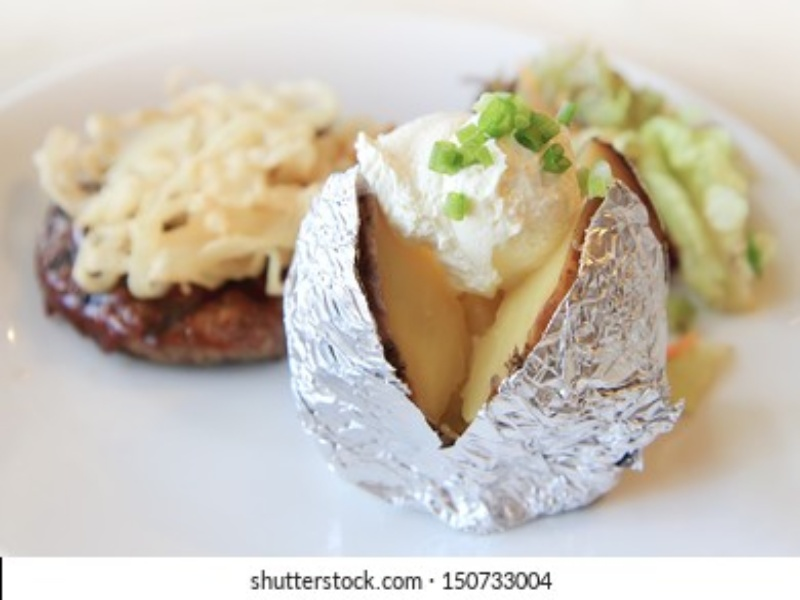Aluminium_Foil: (276, 151, 509, 514), (359, 387, 593, 529), (553, 194, 683, 445)
